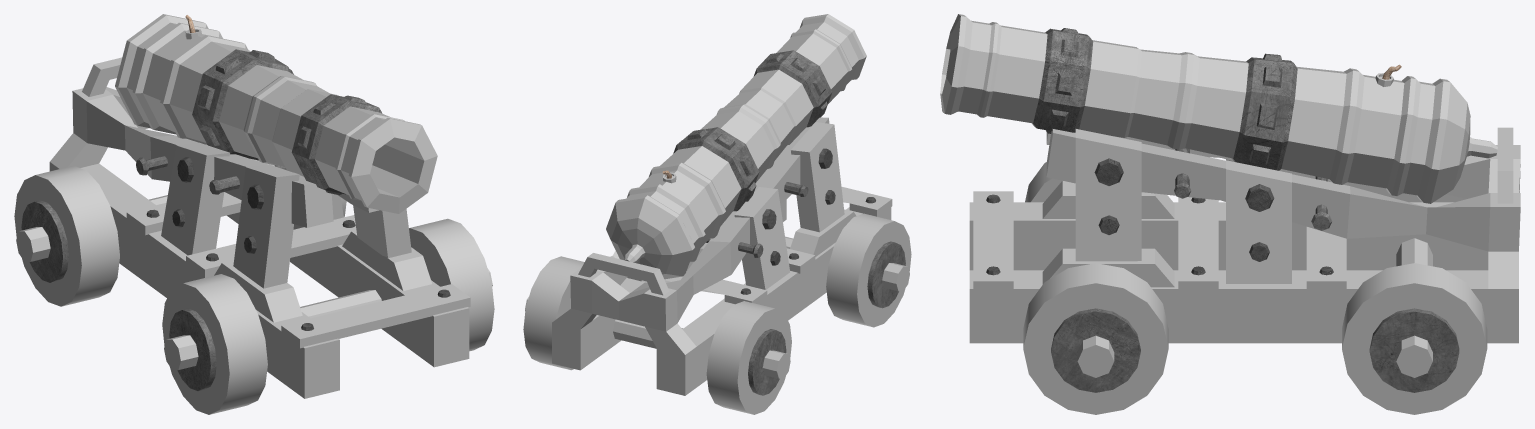
Rendered from CanonLvl3.fbx.
The picture shows the model from 3 angles, left to right: view 1: azimuth 30°, elevation 25°; view 2: azimuth 150°, elevation 25°; view 3: azimuth 270°, elevation 25°; orthographic projection. The views are drawn at different scales.
Parts seen in each view (by area): view 1: Cube.026, Cylinder.039, Circle.031, Circle.030, Cube.027, Cube.032, Cube.025, Cylinder.042, Cylinder.043, Cube.029, Circle.015, Circle.013 (+4 smaller); view 2: Cube.026, Cylinder.039, Circle.030, Circle.031, Cube.027, Cube.032, Cylinder.042, Cylinder.043, Circle.013, Circle.015, Cylinder.030, Cube.028 (+3 smaller); view 3: Cube.026, Cylinder.039, Circle.031, Circle.030, Cube.027, Cube.032, Cylinder.042, Circle.013, Circle.015, Cylinder.043, Cube.025, Cube.029 (+5 smaller).
Boxes of the visible parts, bbox=[...] form: Cube.026: bbox=[49, 57, 469, 398]; Cylinder.039: bbox=[115, 14, 437, 213]; Circle.031: bbox=[162, 218, 494, 414]; Circle.030: bbox=[14, 165, 346, 306]; Cube.027: bbox=[233, 164, 411, 288]; Cube.032: bbox=[161, 142, 343, 255]; Cube.025: bbox=[281, 284, 470, 348]; Cylinder.042: bbox=[192, 49, 293, 160]; Cylinder.043: bbox=[291, 94, 382, 195]; Cube.029: bbox=[186, 215, 356, 277]; Circle.015: bbox=[169, 308, 216, 390]; Circle.013: bbox=[21, 200, 68, 282]; Cube.026: bbox=[552, 117, 891, 395]; Cylinder.039: bbox=[606, 14, 866, 279]; Circle.030: bbox=[523, 256, 791, 414]; Circle.031: bbox=[826, 213, 911, 327]; Cube.027: bbox=[790, 122, 844, 232]; Cube.032: bbox=[734, 187, 789, 289]; Cylinder.042: bbox=[673, 127, 759, 211]; Cylinder.043: bbox=[753, 50, 832, 127]; Circle.013: bbox=[748, 329, 786, 395]; Circle.015: bbox=[867, 241, 905, 308]; Cylinder.030: bbox=[525, 297, 790, 378]; Cube.028: bbox=[627, 271, 767, 304]; Cube.026: bbox=[969, 127, 1520, 343]; Cylinder.039: bbox=[940, 14, 1497, 203]; Circle.031: bbox=[1023, 162, 1168, 414]; Circle.030: bbox=[1342, 189, 1487, 414]; Cube.027: bbox=[1075, 129, 1141, 261]; Cube.032: bbox=[1226, 159, 1291, 283]; Cylinder.042: bbox=[1232, 53, 1297, 170]; Circle.013: bbox=[1369, 308, 1459, 392]; Circle.015: bbox=[1051, 308, 1140, 392]; Cylinder.043: bbox=[1032, 28, 1093, 133]; Cube.025: bbox=[973, 191, 1013, 290]; Cube.029: bbox=[1178, 197, 1218, 290].
Bounding box in the file's own units: 106 × 99.1 × 159.
